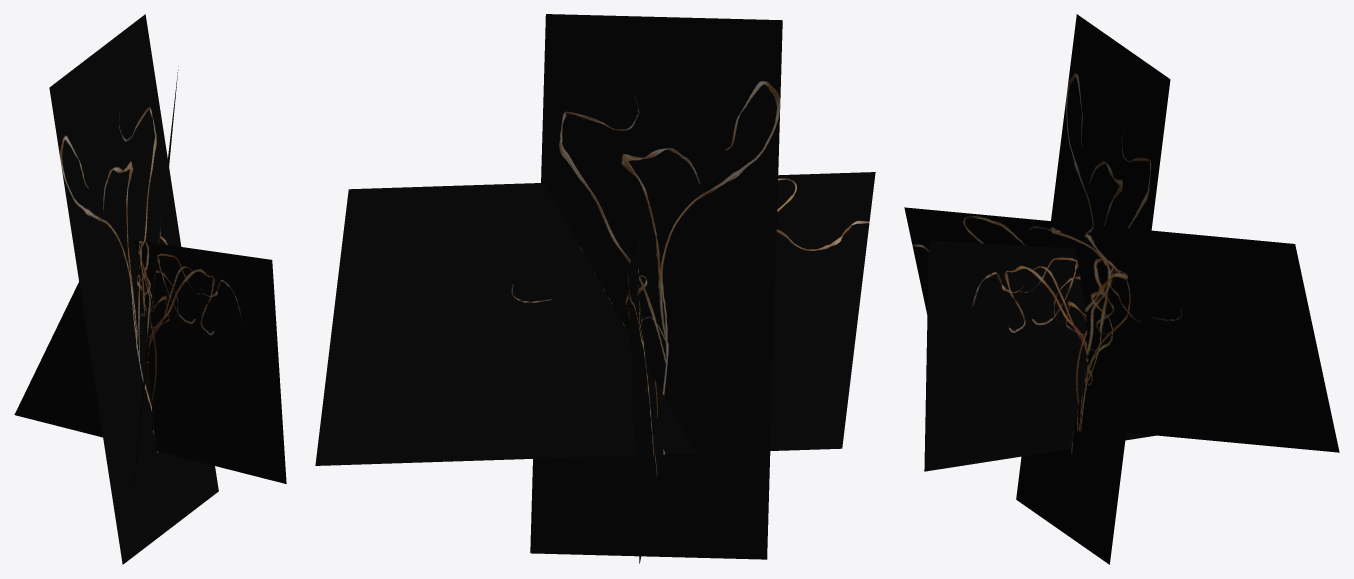
Rendered from dead_grass1.glb.
The picture shows the model from 3 angles, left to right: view 1: azimuth 30°, elevation 25°; view 2: azimuth 150°, elevation 25°; view 3: azimuth 270°, elevation 25°; orthographic projection. The views are drawn at different scales.
Visible parts, largest first — view 1: DeadGrass1_DeadGrassATLAS_0; view 2: DeadGrass1_DeadGrassATLAS_0; view 3: DeadGrass1_DeadGrassATLAS_0.
Boxes of the visible parts, <box> form: DeadGrass1_DeadGrassATLAS_0: <box>14,14,286,564</box>; DeadGrass1_DeadGrassATLAS_0: <box>315,14,875,563</box>; DeadGrass1_DeadGrassATLAS_0: <box>904,14,1339,564</box>.
Bounding box in the file's own units: 0.831 × 1.53 × 1.29.
1 material, 1 textured.
